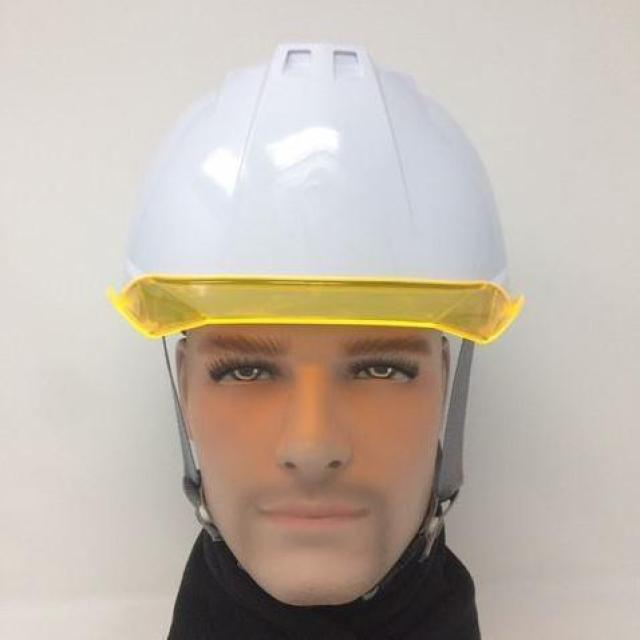helmet: (110, 41, 527, 338)
